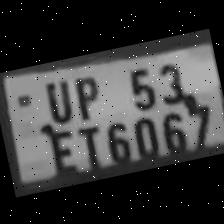0: (124, 107, 162, 161)
3: (151, 53, 188, 104)
5: (120, 59, 160, 110)
6: (154, 102, 192, 156), (97, 115, 136, 167)
7: (178, 93, 216, 154)
E: (40, 120, 78, 176)
P: (62, 68, 104, 121)
T: (66, 120, 106, 174)
U: (34, 72, 76, 124)
